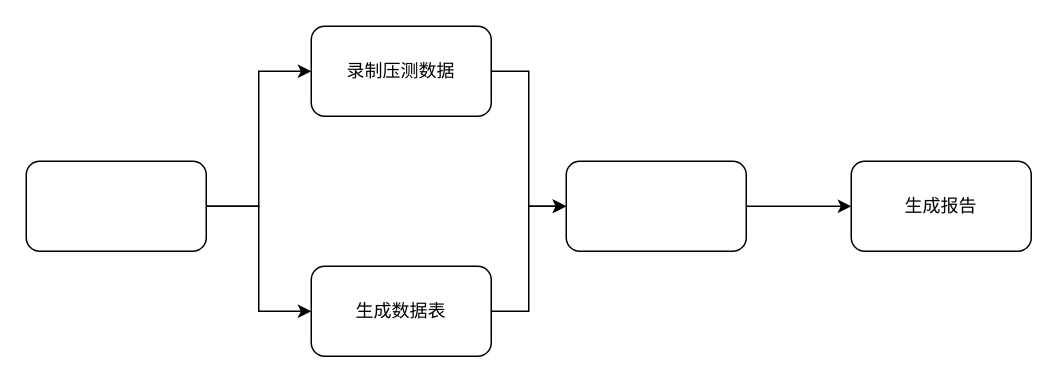
Some shapes in this 1058 by 383 pixel diagram are drawn without their labels. The box of each missing label's shape, as (x1, y1, x2, y2) in pixels:
配置QPS阶梯: (565, 160, 746, 251)
配置压测参数: (25, 160, 206, 251)
